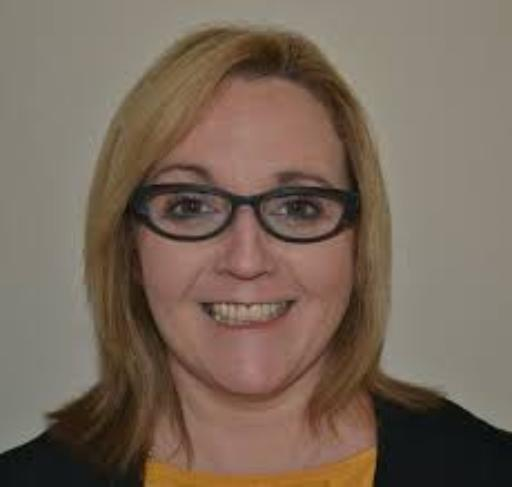left_eye: (274, 199, 328, 224)
left_lip_corner: (287, 296, 306, 311)
right_eye: (162, 197, 220, 222)
right_lip_corner: (193, 297, 211, 316)
